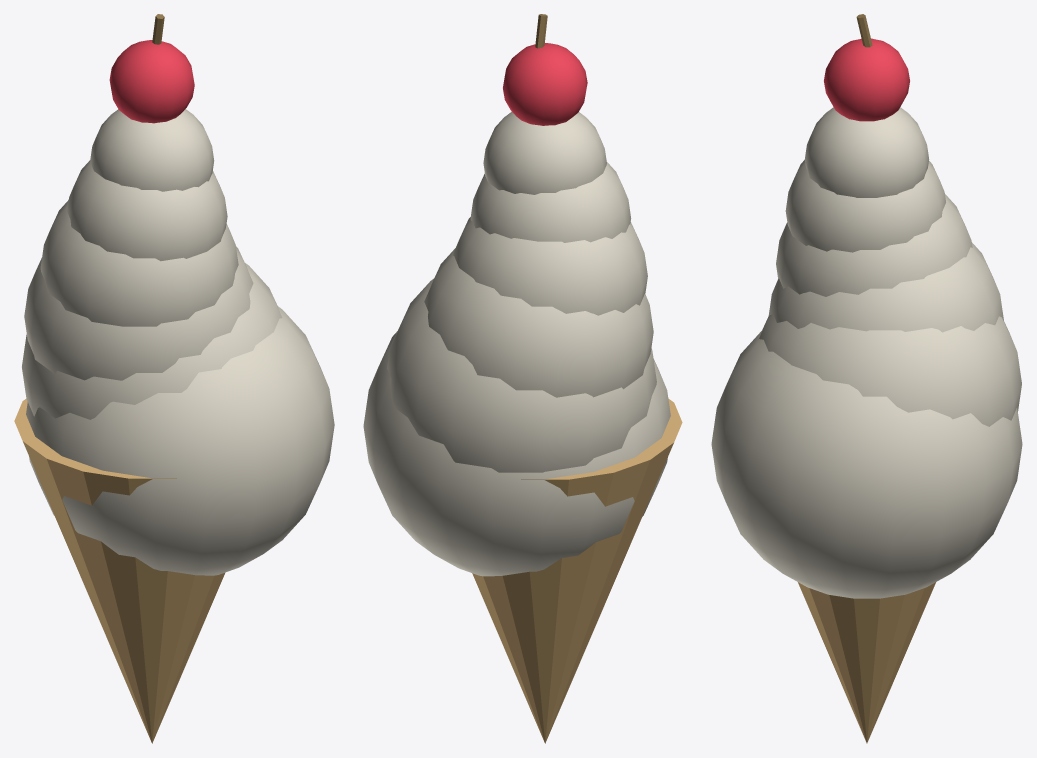
Rendered from dondurma.glb.
The picture shows the model from 3 angles, left to right: view 1: azimuth 30°, elevation 25°; view 2: azimuth 150°, elevation 25°; view 3: azimuth 270°, elevation 25°; orthographic projection.
Parts seen in each view (by area): view 1: Dondurma; view 2: Dondurma; view 3: Dondurma.
Part boxes in pixels (box(x1,y1,x2,y2)): Dondurma: box(14, 14, 334, 743); Dondurma: box(363, 14, 682, 743); Dondurma: box(711, 14, 1022, 743).
Size of the model in its own units: 0.378 by 0.95 by 0.3663.
